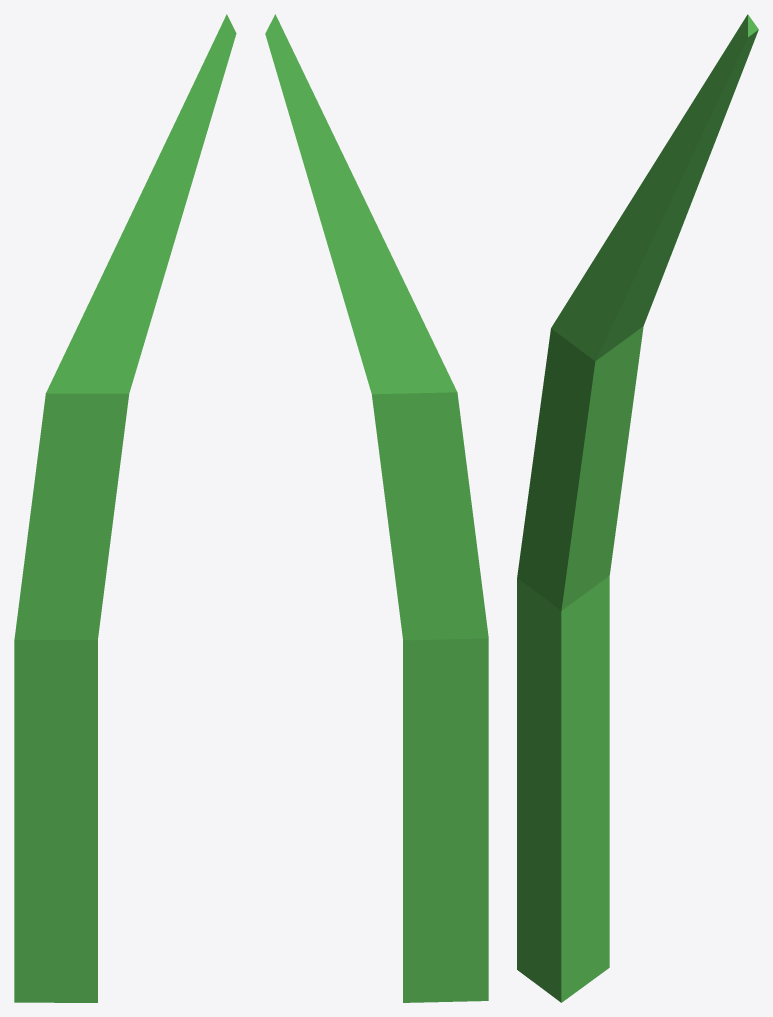
Rendered from blade_t1.glb.
The picture shows the model from 3 angles, left to right: view 1: azimuth 30°, elevation 25°; view 2: azimuth 150°, elevation 25°; view 3: azimuth 330°, elevation 25°; orthographic projection. The views are drawn at different scales.
Visible parts, largest first — view 1: 1t; view 2: 1t; view 3: 1t.
Boxes of the visible parts, x1,y1,x2,y2 form: 1t: [14, 14, 236, 1002]; 1t: [265, 14, 488, 1002]; 1t: [517, 14, 758, 1002].
Bounding box in the file's own units: 0.157 × 0.6445 × 0.0558.
